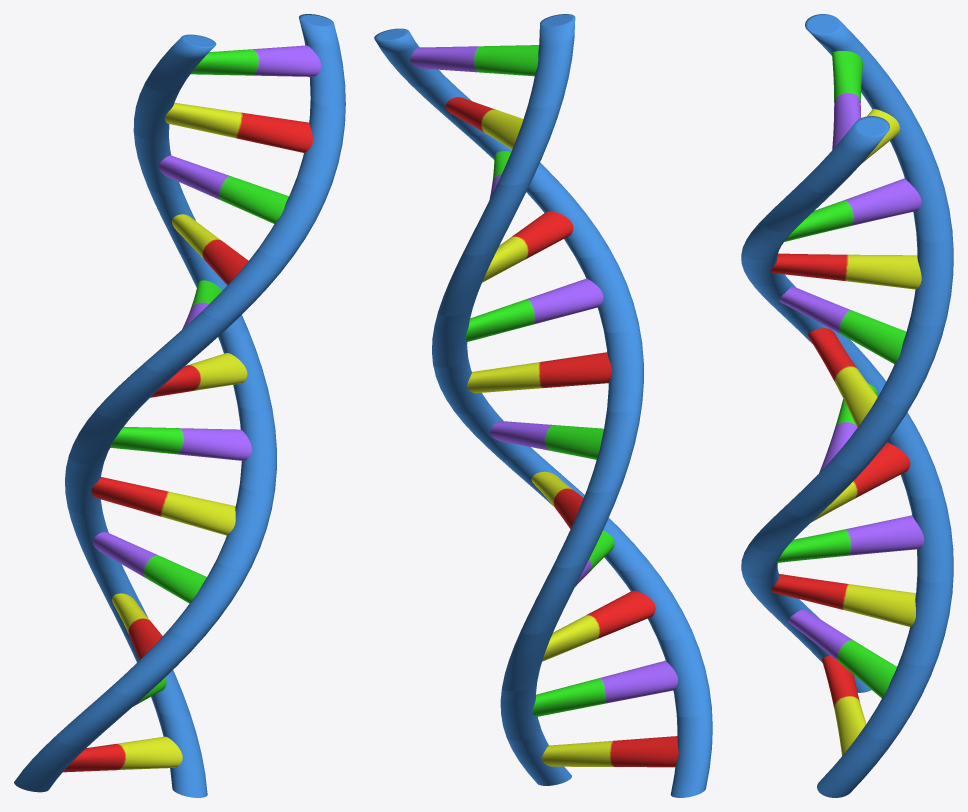
The model's file is dna.glb.
3 renders of one model, left to right at view 1: azimuth 30°, elevation 25°; view 2: azimuth 150°, elevation 25°; view 3: azimuth 270°, elevation 25°, orthographic.
Visible parts, largest first — view 1: DNA_Material_0; view 2: DNA_Material_0; view 3: DNA_Material_0.
Part boxes in pixels (x1,y1,x2,y2): DNA_Material_0: (14, 14, 345, 797); DNA_Material_0: (374, 14, 712, 797); DNA_Material_0: (741, 14, 953, 797).
Size of the model in its own units: 0.9246 by 2.09 by 0.5237.
Materials: 1 (1 with a texture image).
